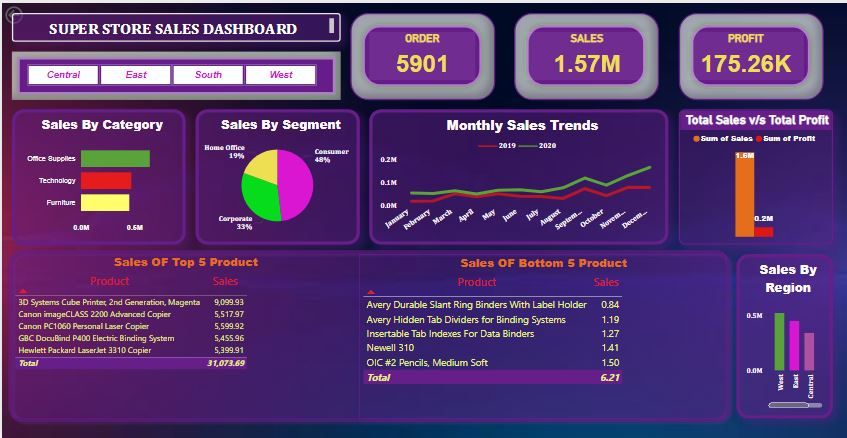

Layout of this report page (visuals, bound fields, positions):
{"tool":"powerbi","page":{"name":"Page 1","canvas":[1400,720],"ordinal":0},"visuals":[{"type":"columnChart","title":"Sales By Region","fields":{"Category":["SuperStore_Sales.Region"],"Y":["Sum(SuperStore_Sales.Sales)"]},"box":[1216,416,160,272],"z":0},{"type":"pieChart","title":"Sales By Segment","fields":{"Y":["Sum(SuperStore_Sales.Sales)"],"Category":["SuperStore_Sales.Segment"]},"box":[320,176,272,224],"z":1000},{"type":"tableEx","title":"Sales OF Top 5 Product","fields":{"Values":["SuperStore_Sales.Product Name","Sum(SuperStore_Sales.Sales)"]},"box":[16,416,576,272],"z":2000},{"type":"actionButton","box":[0,0,100,40],"z":3000},{"type":"clusteredColumnChart","title":"Total Sales v/s Total Profit","fields":{"Y":["Sum(SuperStore_Sales.Sales)","Sum(SuperStore_Sales.Profit)"]},"box":[1120,176,256,224],"z":4000},{"type":"tableEx","title":"Sales OF Bottom 5 Product","fields":{"Values":["SuperStore_Sales.Product Name","Sum(SuperStore_Sales.Sales)"]},"box":[592,416,608,272],"z":5000},{"type":"shape","box":[0,400,1216,304],"z":6000},{"type":"lineChart","title":" Monthly Sales Trends","fields":{"Category":["SuperStore_Sales.Order Date.Variation.Date Hierarchy.Month"],"Y":["Sum(SuperStore_Sales.Sales)"],"Series":["SuperStore_Sales.Order Date.Variation.Date Hierarchy.Year"]},"box":[608,176,496,224],"z":7000},{"type":"textbox","title":"SUPER STORE SALES DASHBOARD","box":[16,16,544,48],"z":8000},{"type":"shape","box":[1120,16,240,144],"z":9000},{"type":"card","title":"PROFIT","fields":{"Values":["Sum(SuperStore_Sales.Profit)"]},"box":[1136,48,192,80],"z":10000},{"type":"shape","box":[848,16,240,144],"z":11000},{"type":"shape","box":[576,16,240,144],"z":12000},{"type":"card","title":"ORDER","fields":{"Values":["CountNonNull(SuperStore_Sales.Customer ID)"]},"box":[608,48,176,80],"z":13000},{"type":"card","title":"SALES","fields":{"Values":["Sum(SuperStore_Sales.Sales)"]},"box":[864,48,208,80],"z":14000},{"type":"shape","box":[16,80,544,80],"z":15000},{"type":"slicer","fields":{"Values":["SuperStore_Sales.Region"]},"box":[16,96,528,48],"z":16000},{"type":"clusteredBarChart","title":"Sales By Category","fields":{"Category":["SuperStore_Sales.Category"],"Y":["Sum(SuperStore_Sales.Sales)"]},"box":[16,176,288,224],"z":17000}]}

Visuals, with their boxes in screenshot pixels (x1, y1, x2, y2), scaled from the page's 1400x720 canvas onto the 847x438 screenshot:
"Sales By Region" columnChart: pyautogui.locateOnScreen(736, 253, 832, 419)
"Sales By Segment" pieChart: pyautogui.locateOnScreen(194, 107, 358, 243)
"Sales OF Top 5 Product" tableEx: pyautogui.locateOnScreen(10, 253, 358, 419)
actionButton: pyautogui.locateOnScreen(0, 0, 60, 24)
"Total Sales v/s Total Profit" clusteredColumnChart: pyautogui.locateOnScreen(678, 107, 832, 243)
"Sales OF Bottom 5 Product" tableEx: pyautogui.locateOnScreen(358, 253, 726, 419)
shape: pyautogui.locateOnScreen(0, 243, 736, 428)
" Monthly Sales Trends" lineChart: pyautogui.locateOnScreen(368, 107, 668, 243)
"SUPER STORE SALES DASHBOARD" textbox: pyautogui.locateOnScreen(10, 10, 339, 39)
shape: pyautogui.locateOnScreen(678, 10, 823, 97)
"PROFIT" card: pyautogui.locateOnScreen(687, 29, 803, 78)
shape: pyautogui.locateOnScreen(513, 10, 658, 97)
shape: pyautogui.locateOnScreen(348, 10, 494, 97)
"ORDER" card: pyautogui.locateOnScreen(368, 29, 474, 78)
"SALES" card: pyautogui.locateOnScreen(523, 29, 649, 78)
shape: pyautogui.locateOnScreen(10, 49, 339, 97)
slicer - SuperStore_Sales.Region: pyautogui.locateOnScreen(10, 58, 329, 88)
"Sales By Category" clusteredBarChart: pyautogui.locateOnScreen(10, 107, 184, 243)
